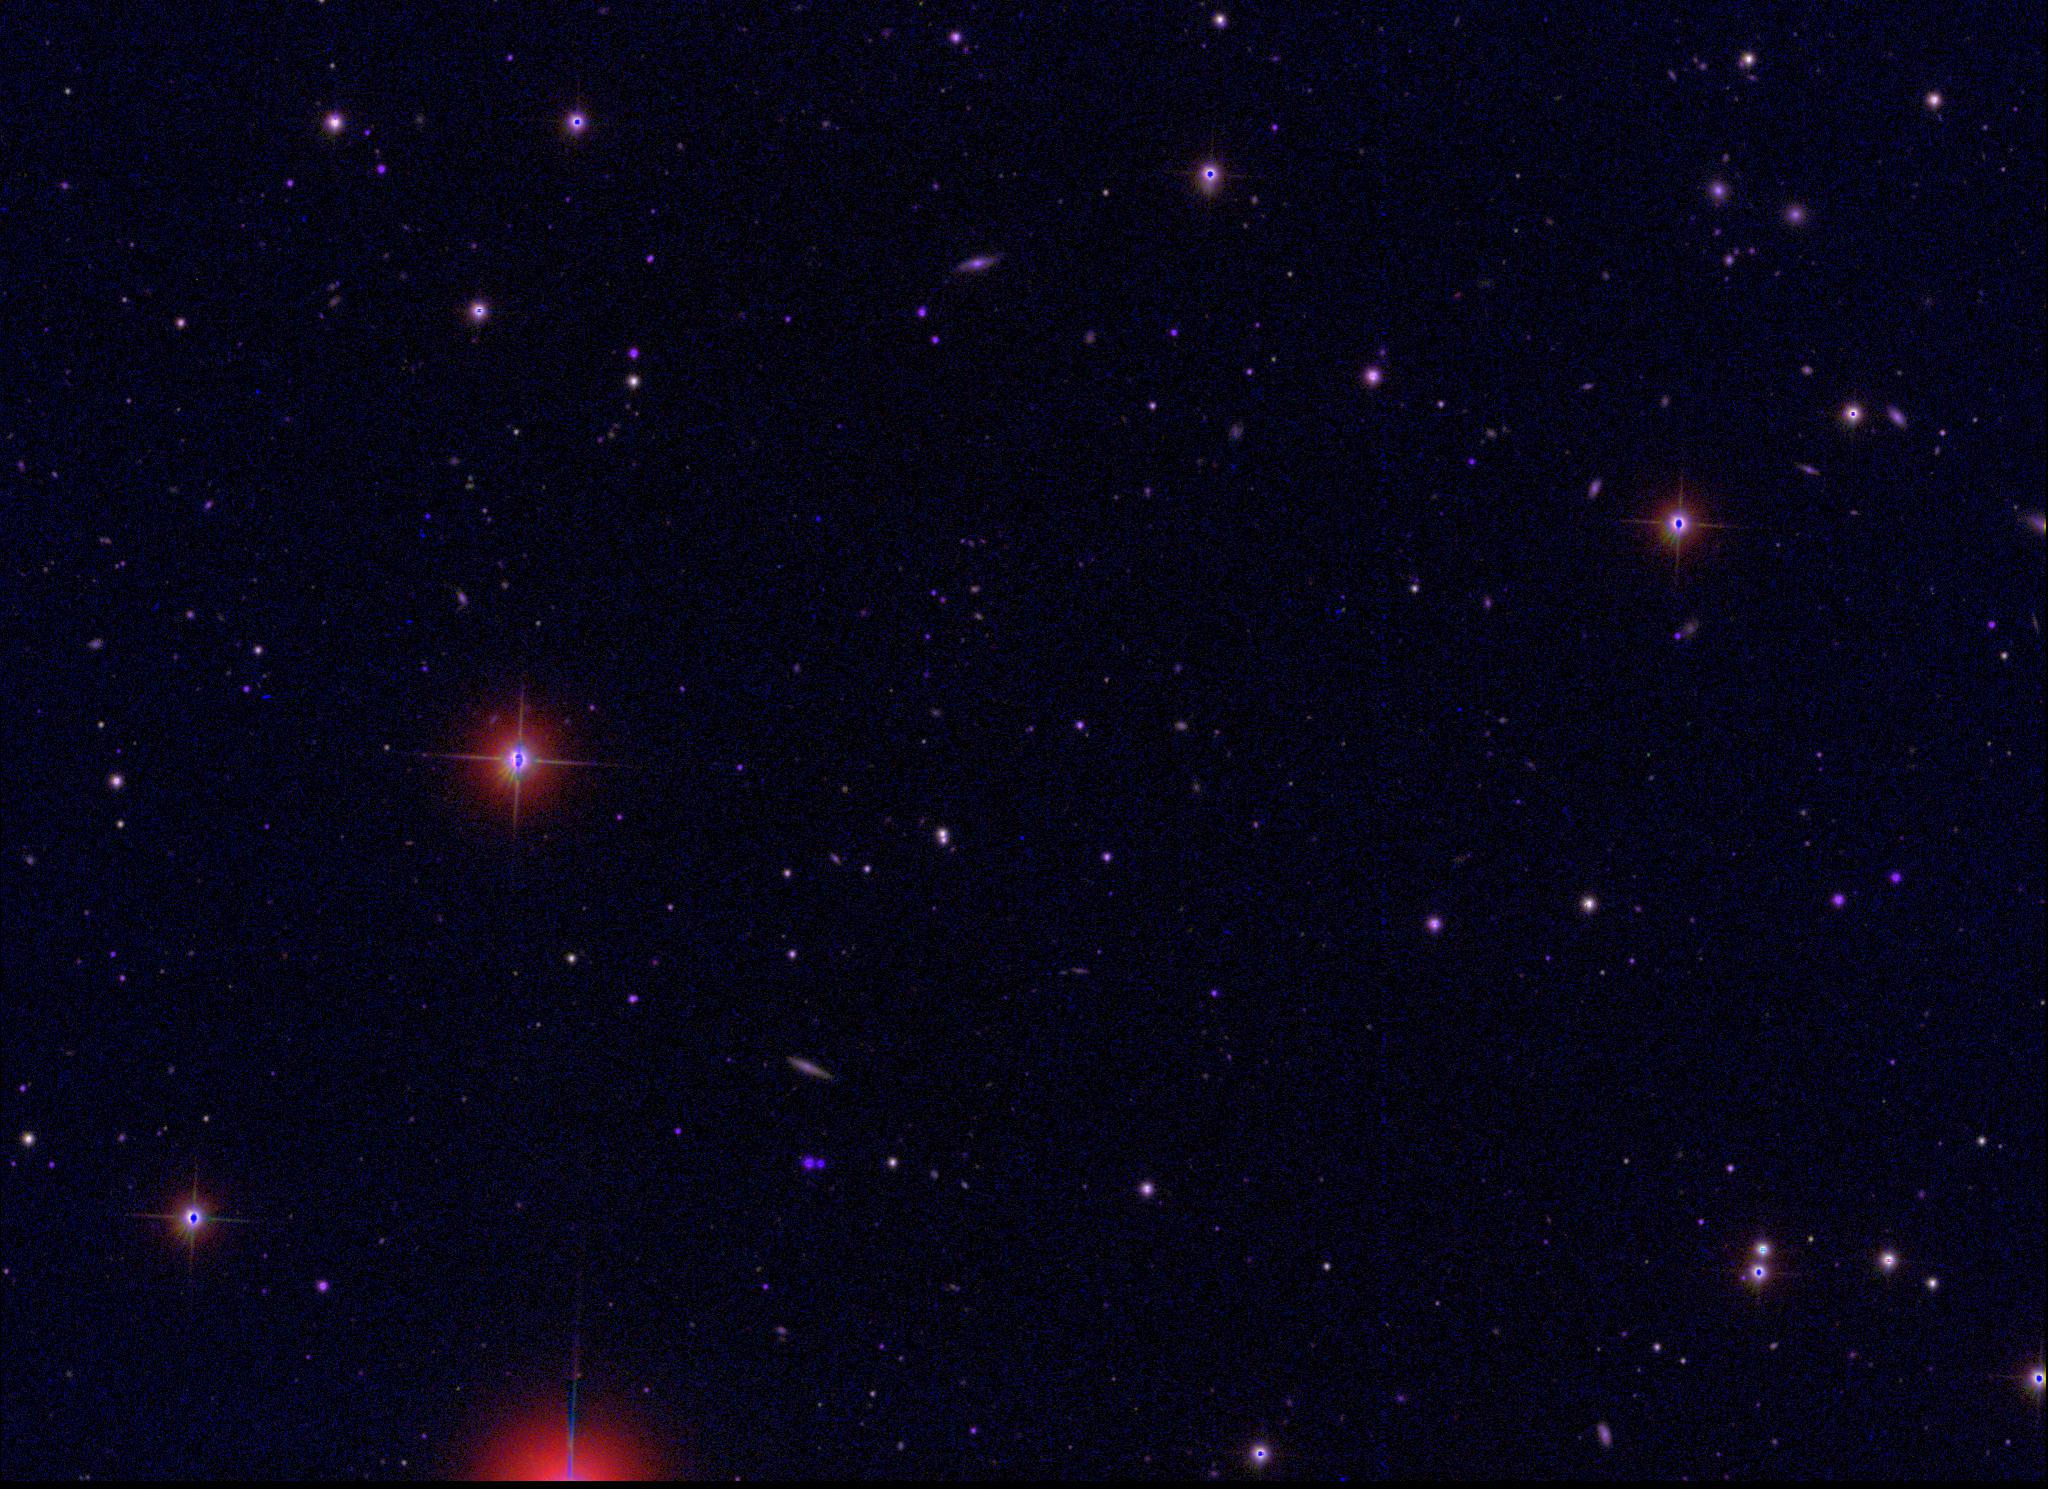L: (811, 512, 825, 527)
